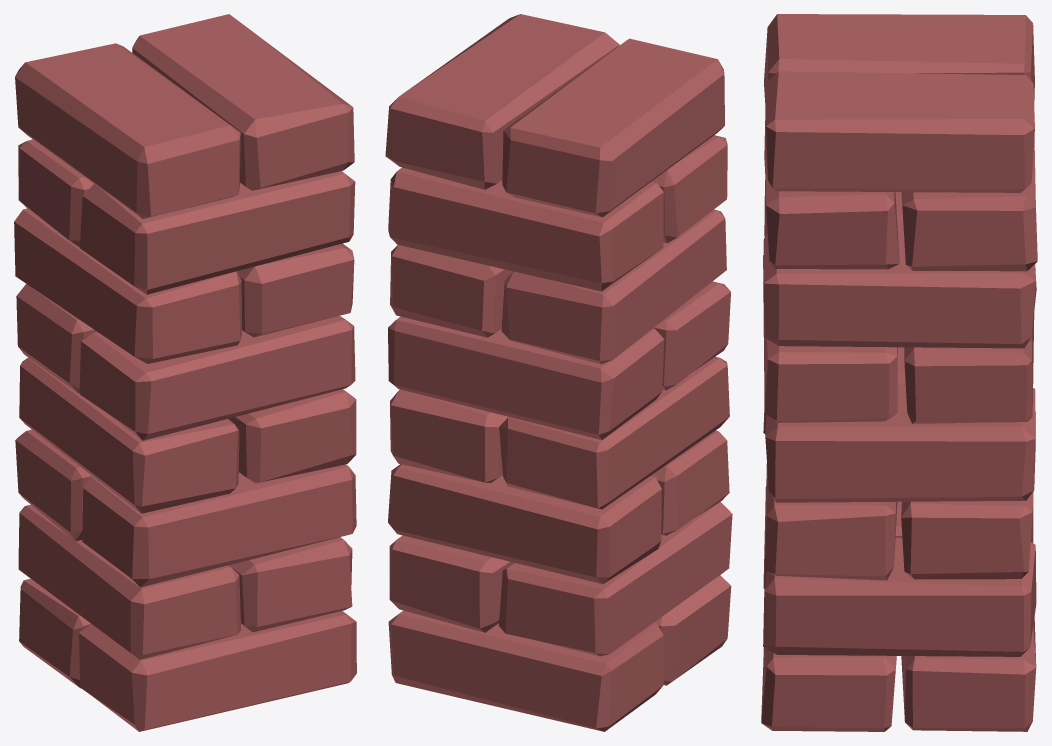
Rendered from PKX_Chimney_Stack.fbx.
3 renders of one model, left to right at view 1: azimuth 30°, elevation 25°; view 2: azimuth 150°, elevation 25°; view 3: azimuth 270°, elevation 25°, orthographic. The views are drawn at different scales.
Parts seen in each view (by area): view 1: PKX_Chimney_Stack; view 2: PKX_Chimney_Stack; view 3: PKX_Chimney_Stack.
Boxes of the visible parts, left/top/right/bottom form: PKX_Chimney_Stack: left=14, top=14, right=356, bottom=731; PKX_Chimney_Stack: left=385, top=14, right=732, bottom=731; PKX_Chimney_Stack: left=761, top=14, right=1037, bottom=731.
Bounding box in the file's own units: 82.86 × 204 × 82.9.
